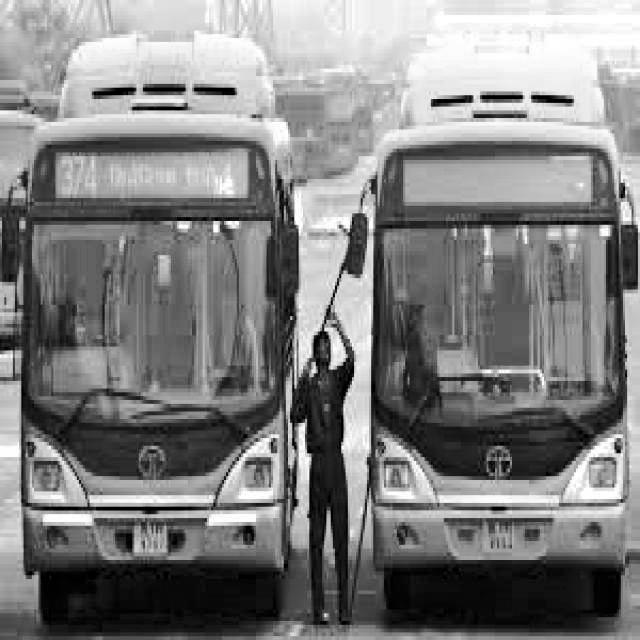Bus: (352, 19, 640, 640), (11, 31, 305, 620)
